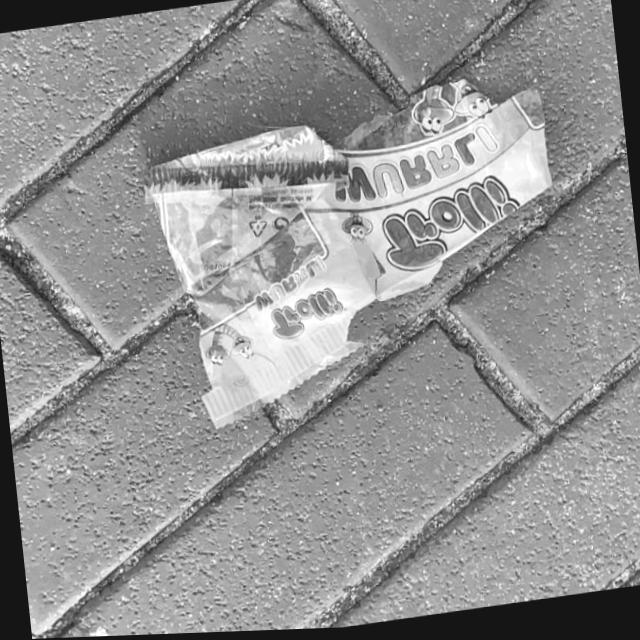Plastic: (133, 63, 576, 439)
